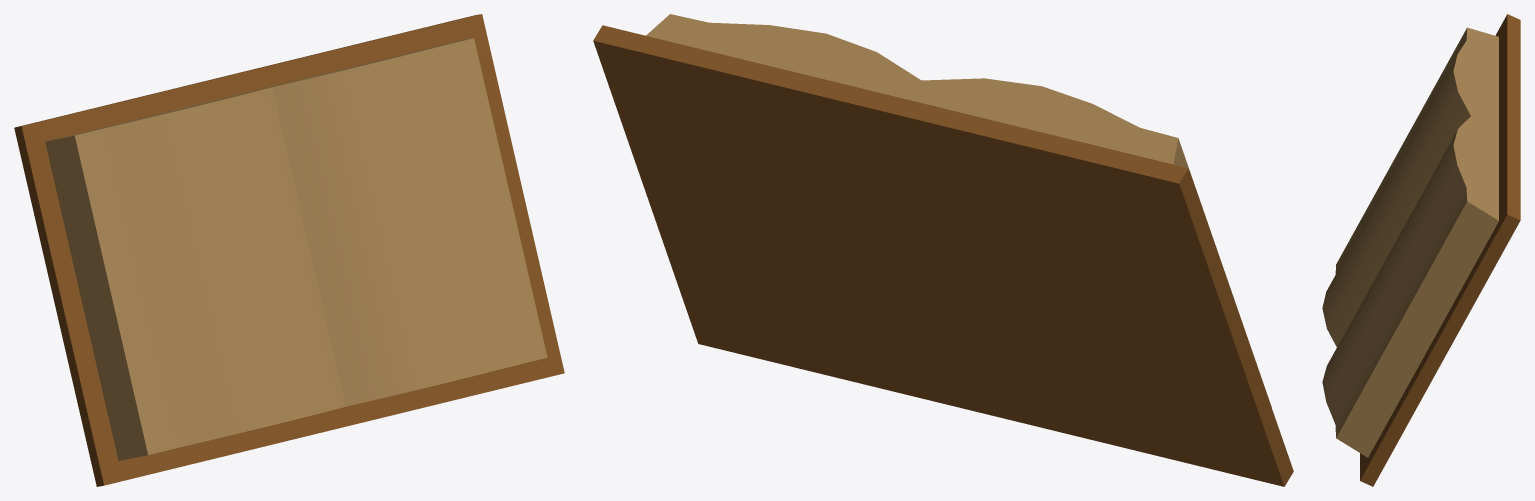
Rendered from decor_bookopen.fbx.
3 renders of one model, left to right at view 1: azimuth 30°, elevation 25°; view 2: azimuth 150°, elevation 25°; view 3: azimuth 270°, elevation 25°, orthographic. The views are drawn at different scales.
Parts seen in each view (by area): view 1: decor_bookopen; view 2: decor_bookopen; view 3: decor_bookopen.
Part boxes in pixels (box(x1,y1,x2,y2)): decor_bookopen: box(14, 14, 564, 486); decor_bookopen: box(593, 14, 1293, 486); decor_bookopen: box(1322, 14, 1520, 486).
Bounding box in the file's own units: 65.89 × 42.69 × 27.54.
